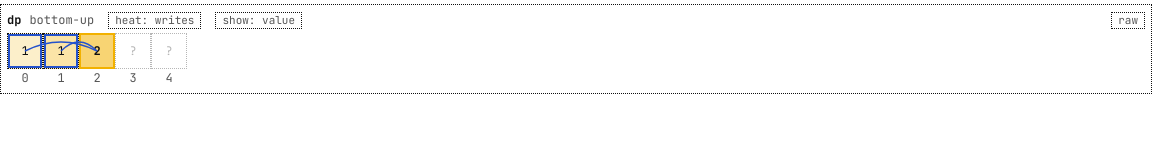
DpTablePanel › show chip replaces cell values with their fill order, leaving ghosts blank
Step 1. Click the button with class "dp-show-toggle" → (259, 21), box [215, 12, 302, 29]
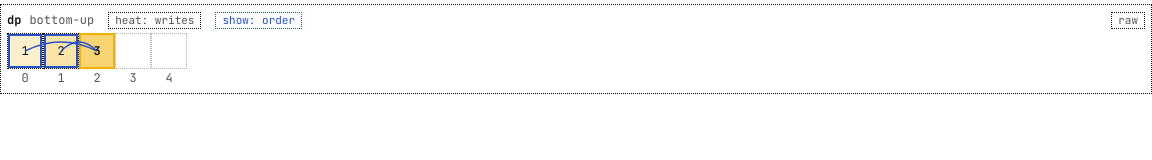
Expected: the 1st text "1" is shown, [7, 33, 43, 69]
Now the 1st text "2" is shown, box [43, 33, 79, 69]
Now the 1st text "3" is shown, box [79, 33, 115, 69]
